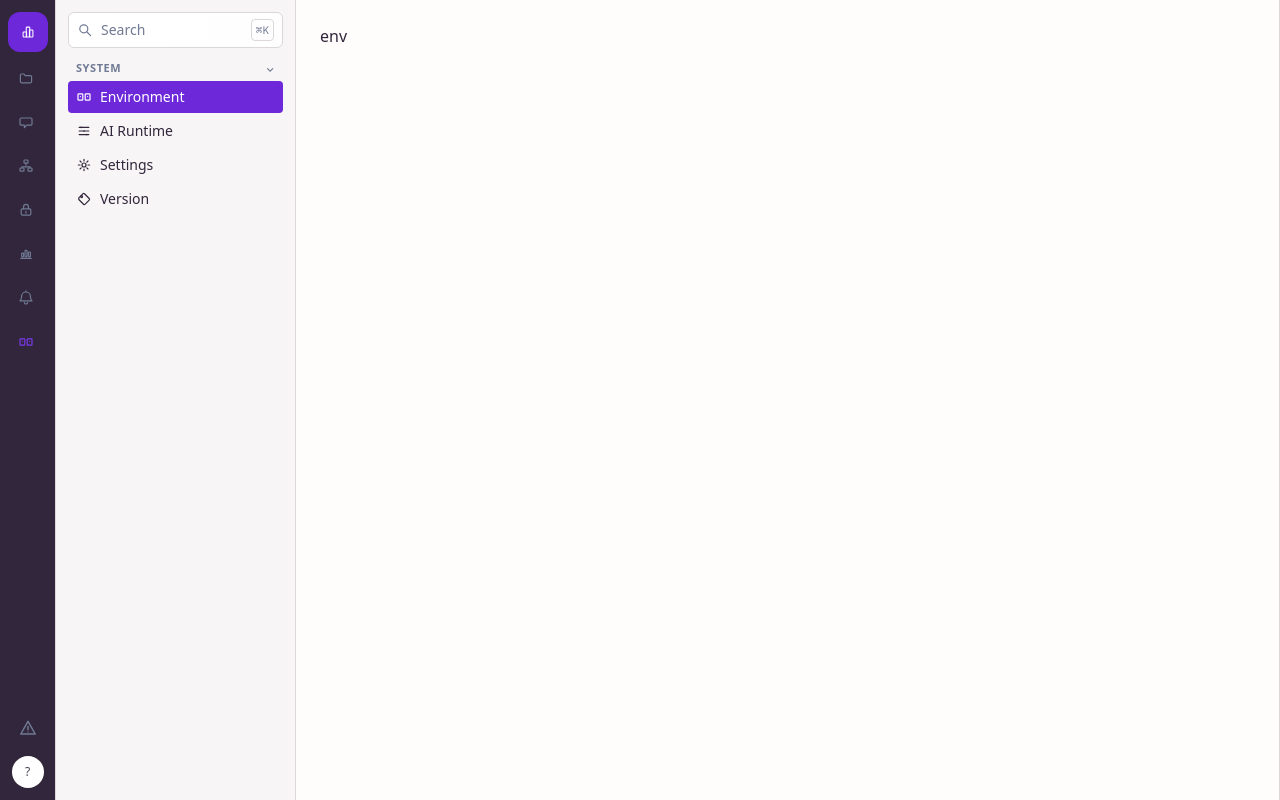
Scenario: col②/④ System module — three-column shell integration (v2.10.0 [T8]) › the Settings col② item navigates to the Settings content
Click the link "Settings".
click(115, 164)  # box [76,154,153,174]
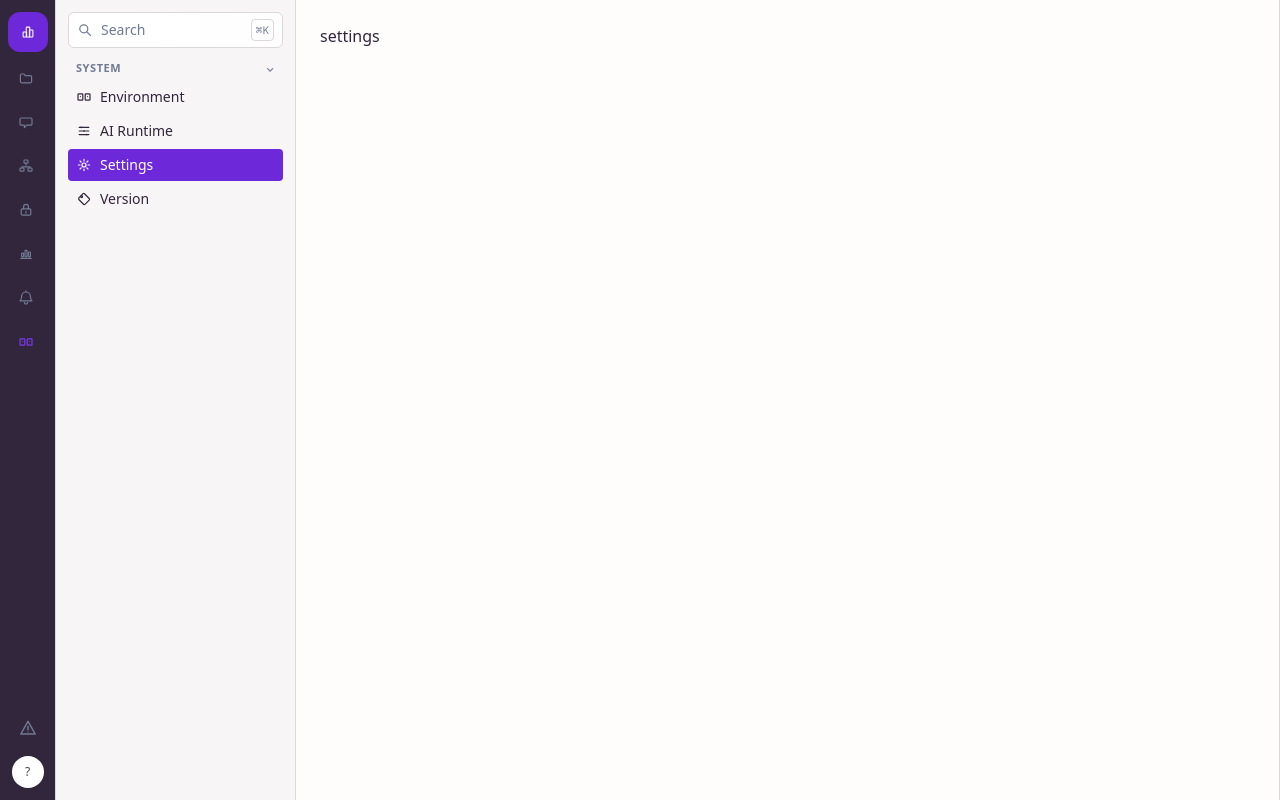
Check: the text "settings" is shown, box [320,25,380,47]
